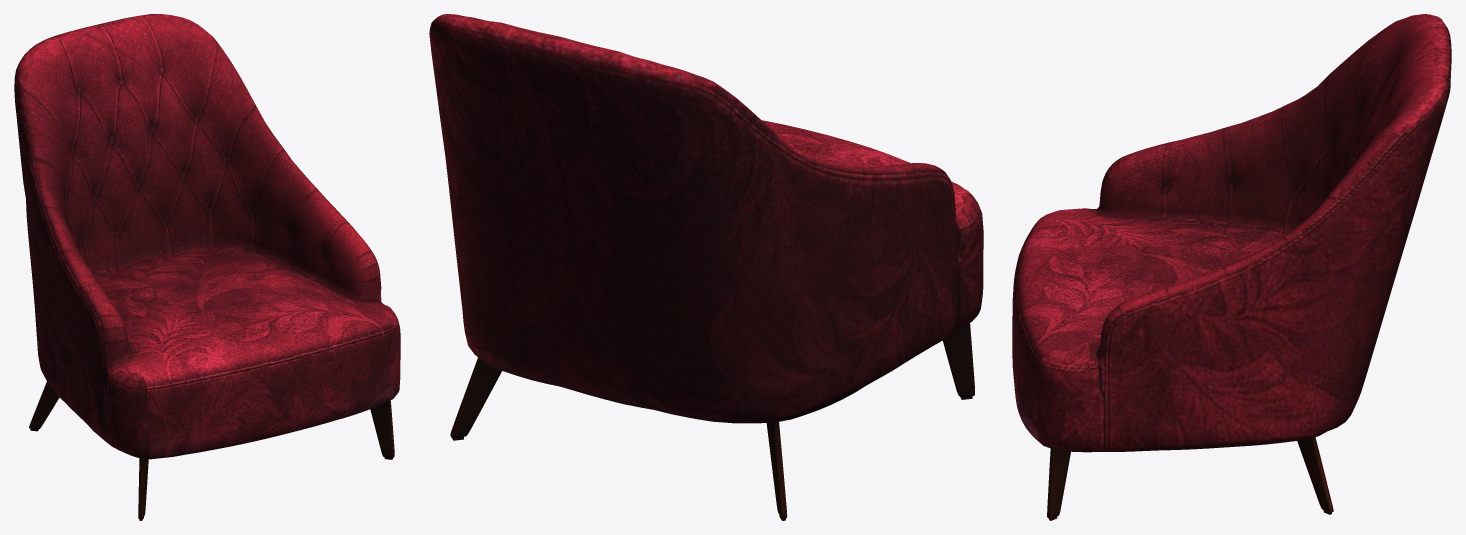
3 renders of one model, left to right at view 1: azimuth 30°, elevation 25°; view 2: azimuth 150°, elevation 25°; view 3: azimuth 270°, elevation 25°, orthographic. The views are drawn at different scales.
Visible parts, largest first — view 1: chair_LP; view 2: chair_LP; view 3: chair_LP.
Part boxes in pixels (x1,y1,x2,y2): chair_LP: (14, 14, 400, 520); chair_LP: (429, 14, 983, 520); chair_LP: (1012, 14, 1451, 520).
Bounding box in the file's own units: 20.99 × 24.14 × 24.1.
Materials: 1 (1 with a texture image).
